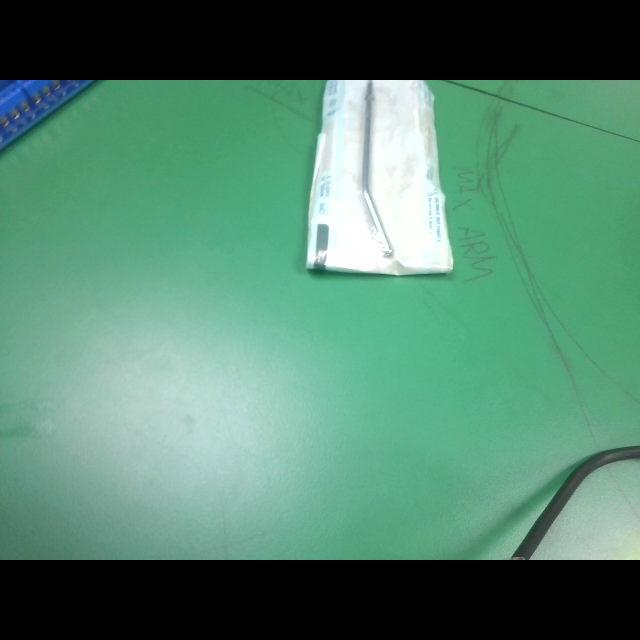triple_syringe: (306, 80, 456, 276)
